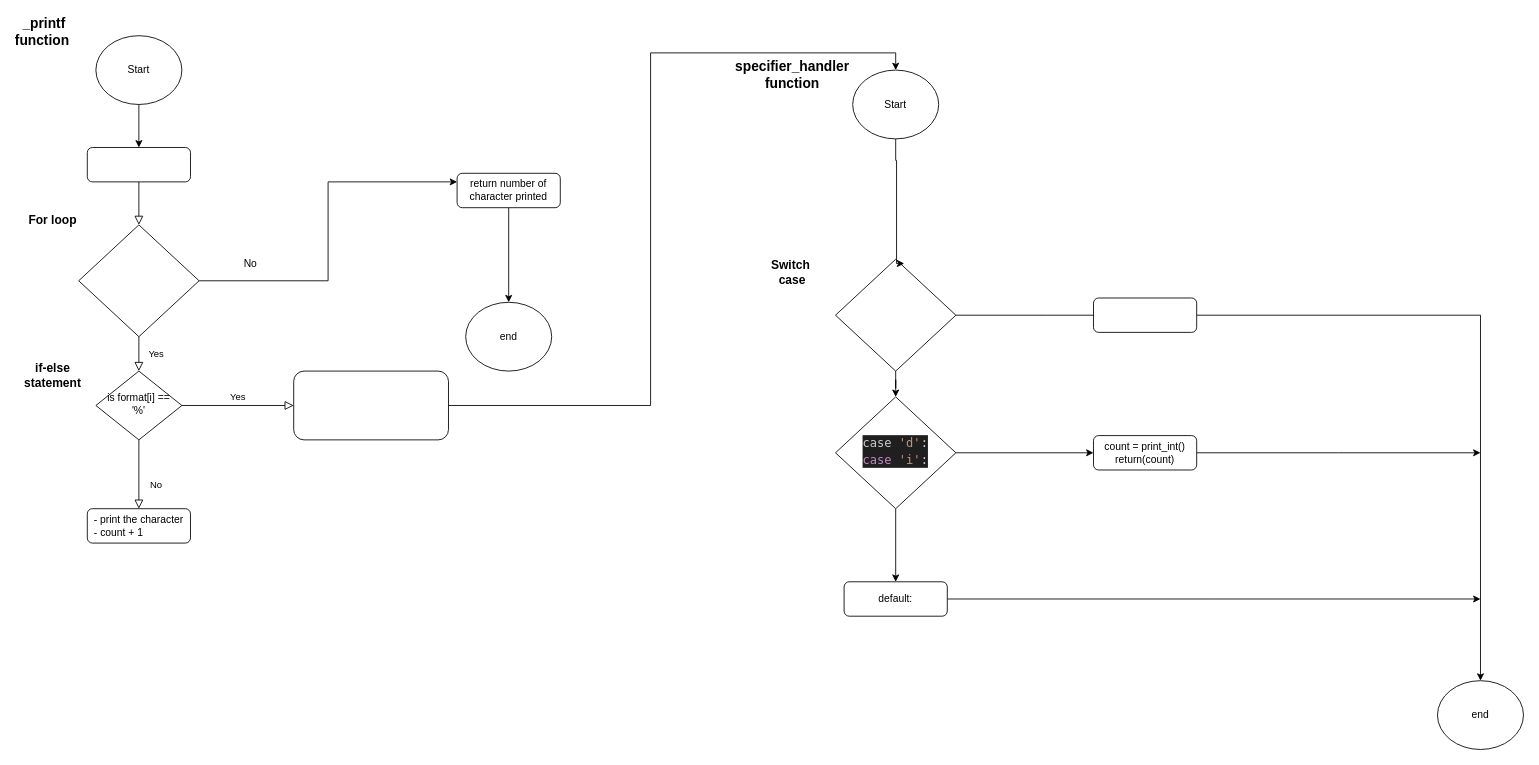
The diagram is 1539 pixels wide and 765 high, and some of its shapes have lost their labels. The shapes that lost their labels are listed below. From the top down, each one's centre as x and y in pixels, then its label:
At pixel 138 164: "int count = 0 (number of printed character)".
At pixel 138 280: "is format == NULL or format[i] =='\0'".
At pixel 895 314: "case 'c' :".
At pixel 1145 314: "count = print_chr() return (count)".
At pixel 370 405: "specifier_handler(format[i+1]) (to check what specifier we have)".
